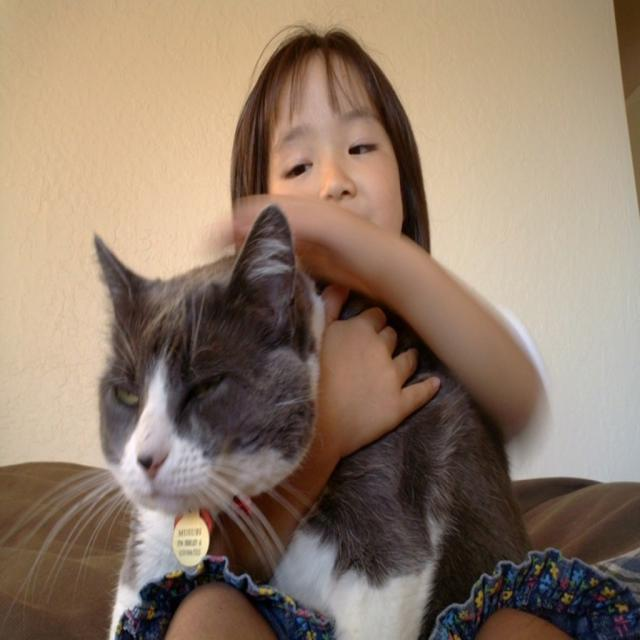Cat: (0, 206, 536, 638)
